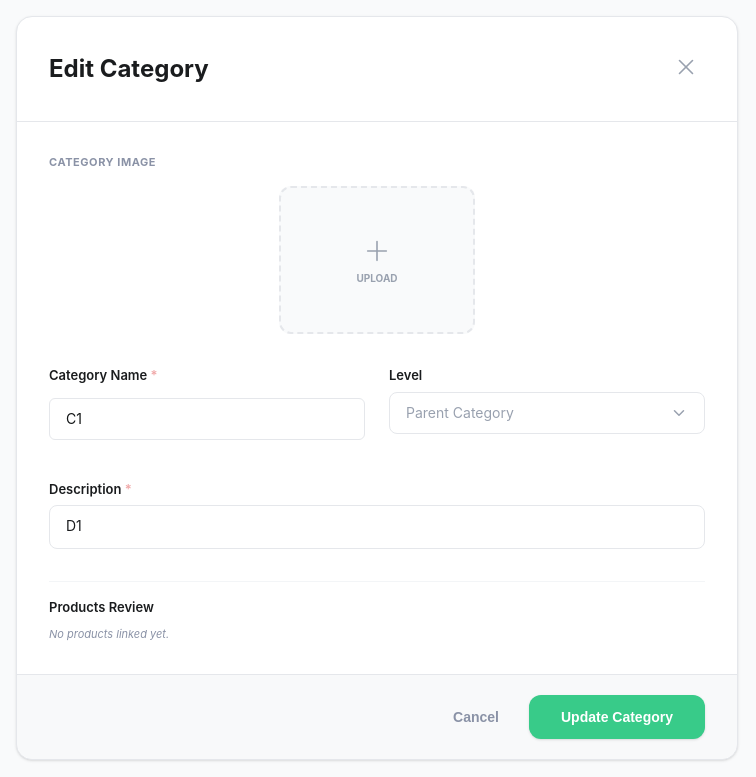
Test: Component: CategoryForm › should cover dropdown item selection and filtering
Click the text "Parent Category".
click(460, 413)  # box [406,403,514,423]
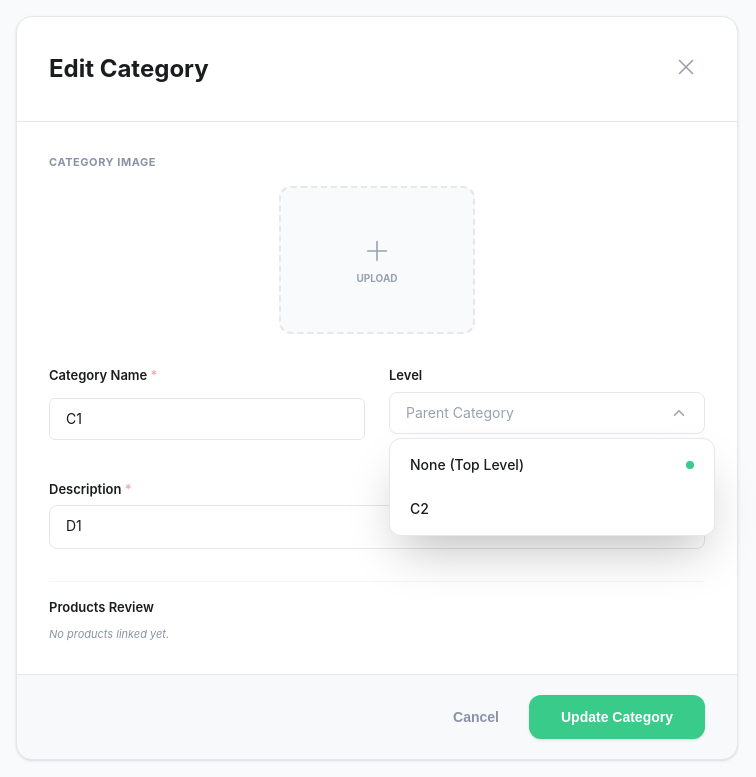
Click the text "C2".
click(419, 509)  # box [410,499,429,519]
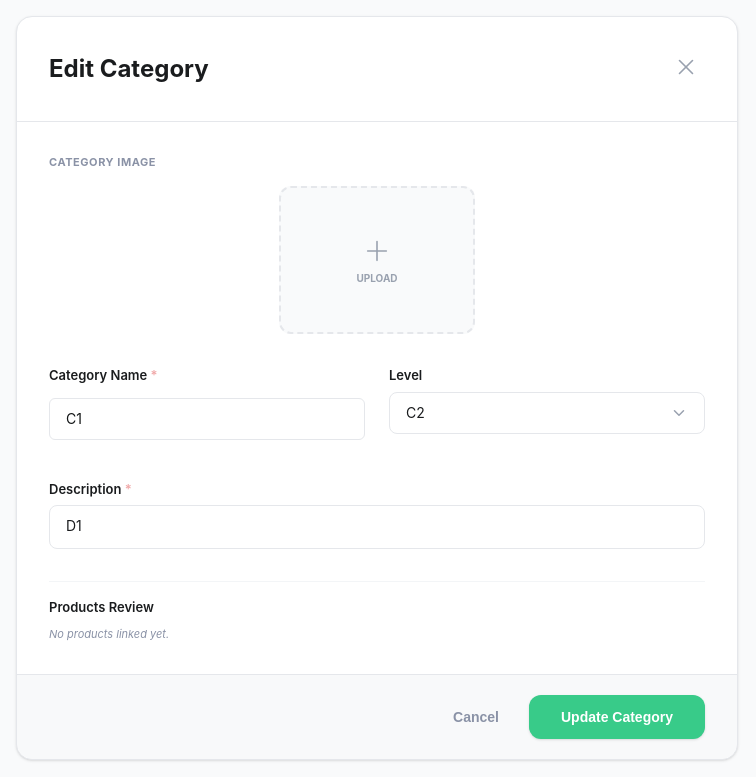
Expected: the text "C2" is shown, [406,403,425,423]
